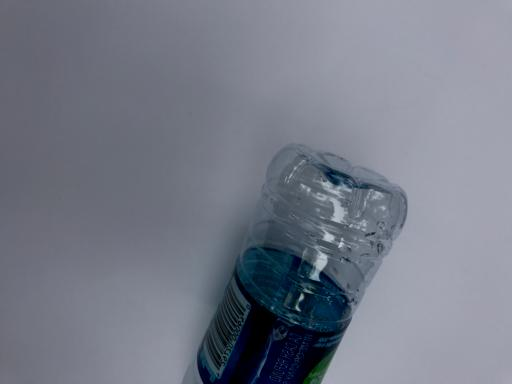bottle: (178, 140, 420, 384)
